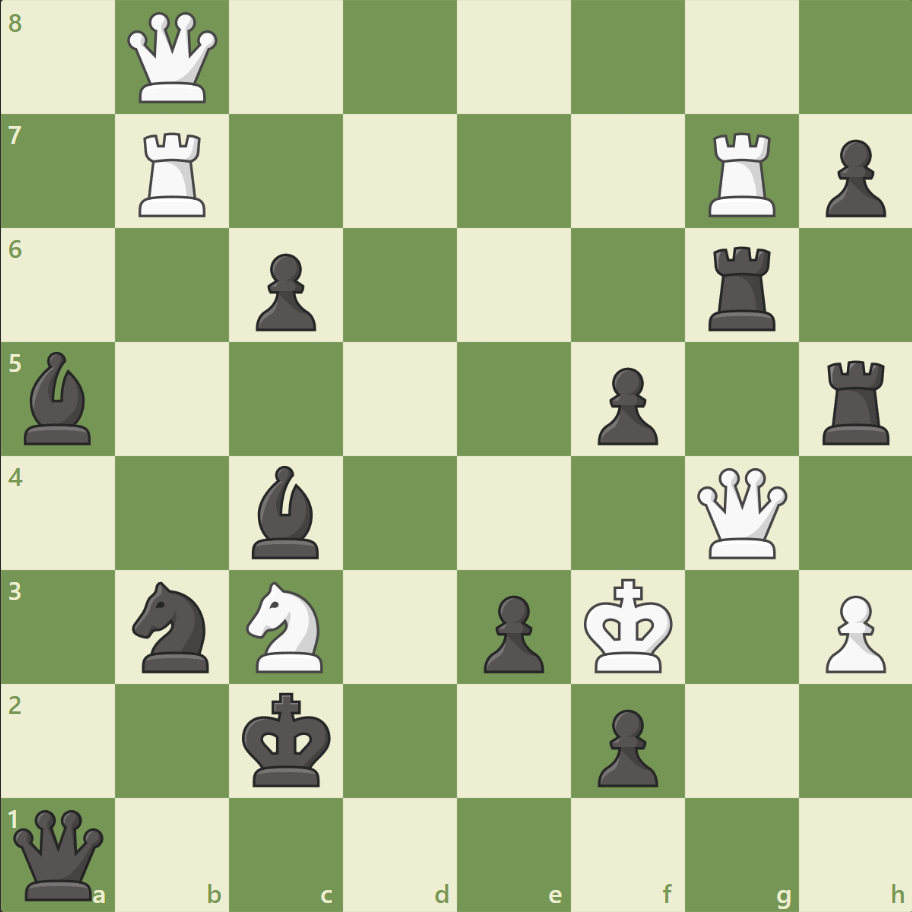K: (579, 571, 679, 679)
N: (238, 575, 335, 677)
P: (815, 586, 889, 677)
Q: (124, 9, 223, 108), (691, 463, 790, 562)
R: (700, 125, 783, 222), (133, 125, 215, 222)
b: (244, 460, 328, 563), (17, 347, 101, 449)
k: (238, 685, 338, 793)
n: (124, 575, 222, 677)
p: (247, 246, 322, 337), (474, 586, 549, 677), (815, 132, 889, 223), (588, 359, 662, 450), (588, 700, 662, 791)
q: (10, 804, 109, 903)
r: (700, 239, 783, 336), (814, 352, 897, 449)
